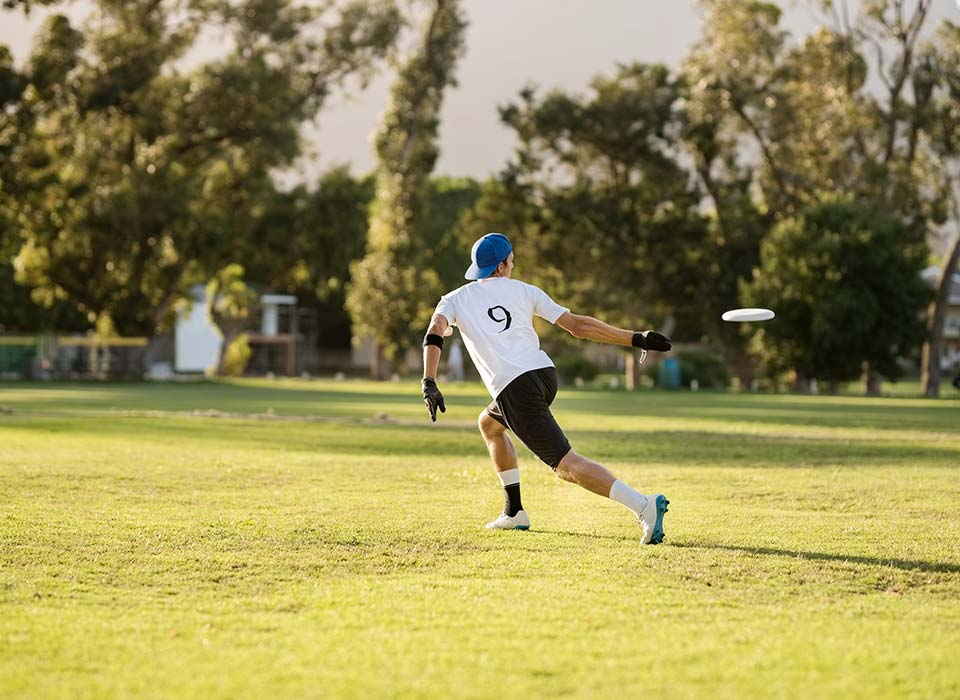disc: (724, 305, 777, 322)
